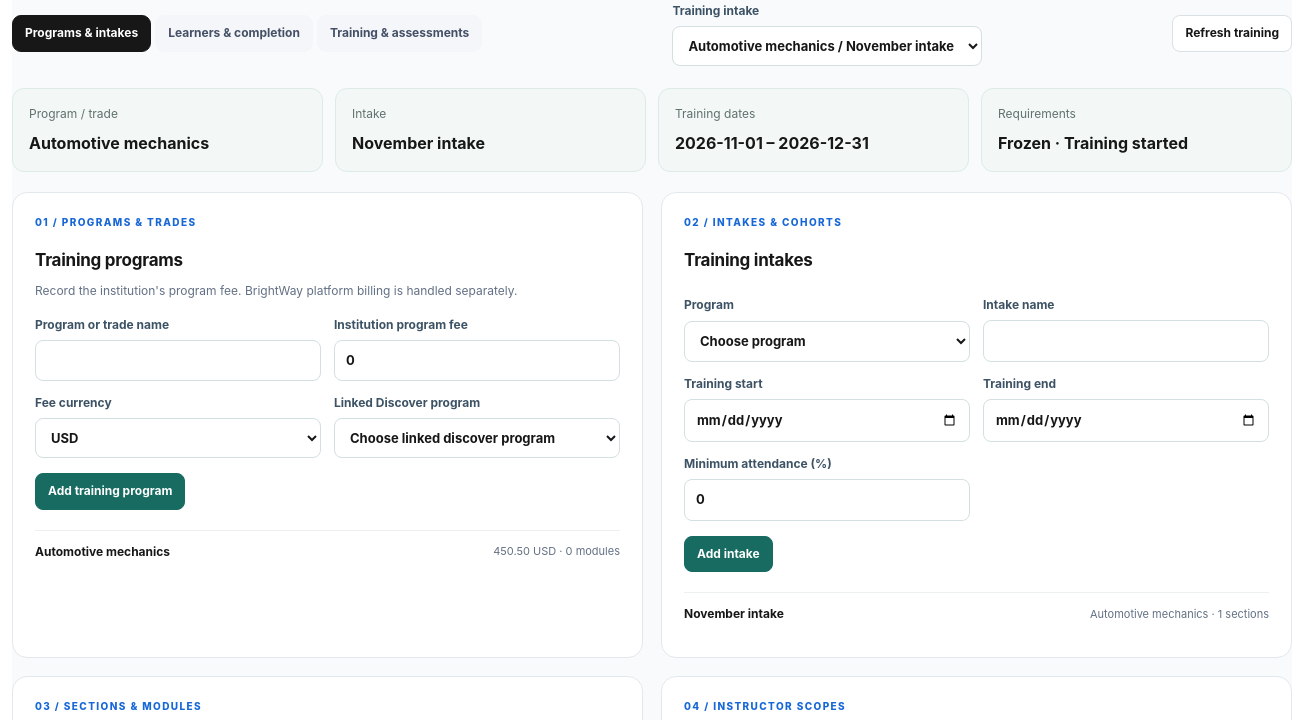
Scenario: preserves fee drafts after conflicts and sends integer minor units
(page scrolled)
Type "Welding" into the field labelled "Program or trade name" at (178, 361), box [35,340,321,381]
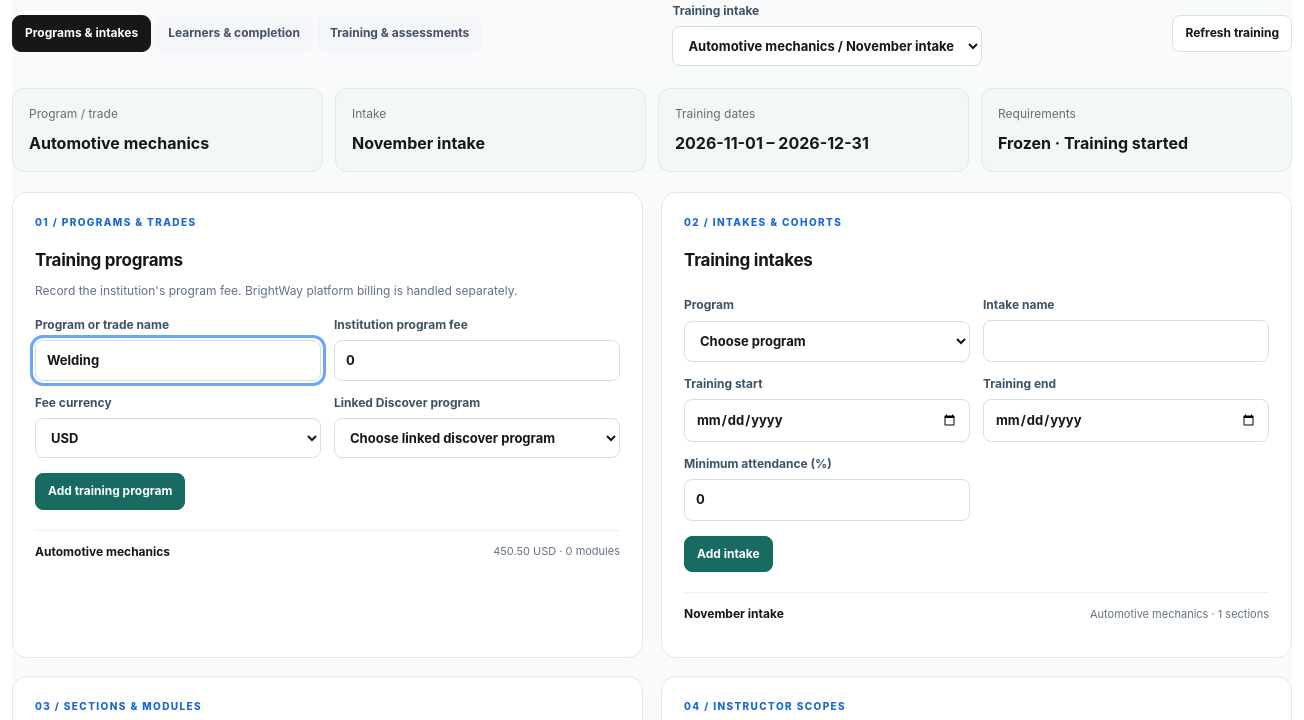
Replace the text in the number field labelled "Institution program fee" with "12.50" at (477, 361), box [334,340,620,381]
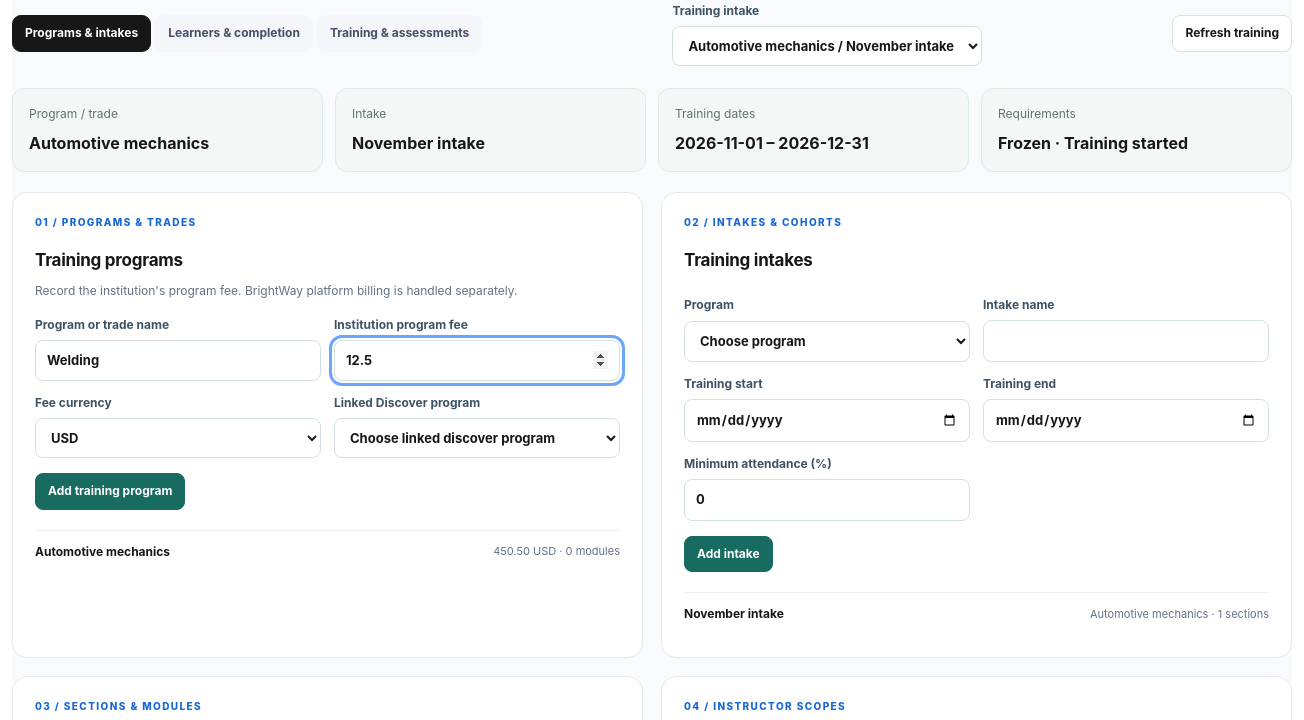
Click the button "Add training program" at (110, 492), box [35,473,185,510]
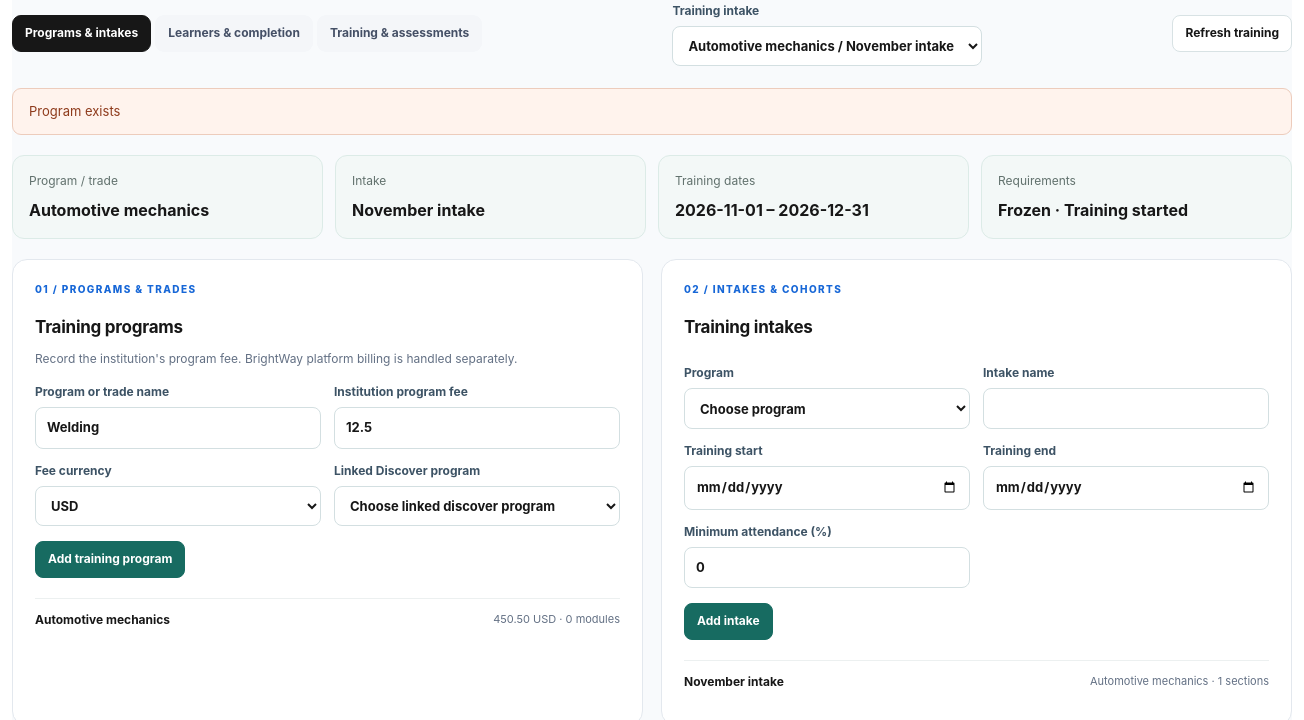
expect the message "Program exists" is shown: met, box [12,88,1292,135]
